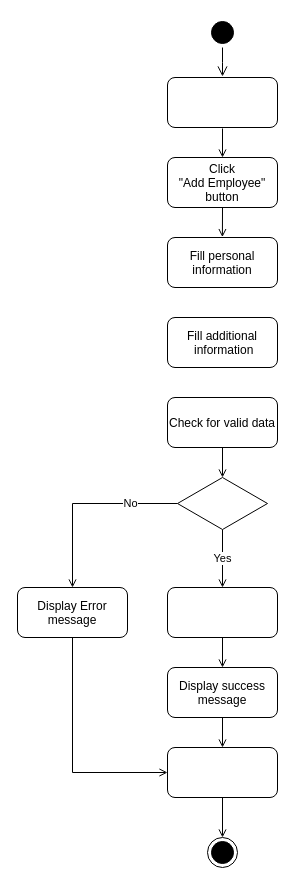
Some shapes in this 295 by 885 pixel diagram are drawn without their labels. Here are the shapes that lost their labels. From the top down, the centre of each, then its label:
pixel 222 102: Click "Edit" buttton
pixel 222 612: Add a new record
pixel 222 772: Return to View page
